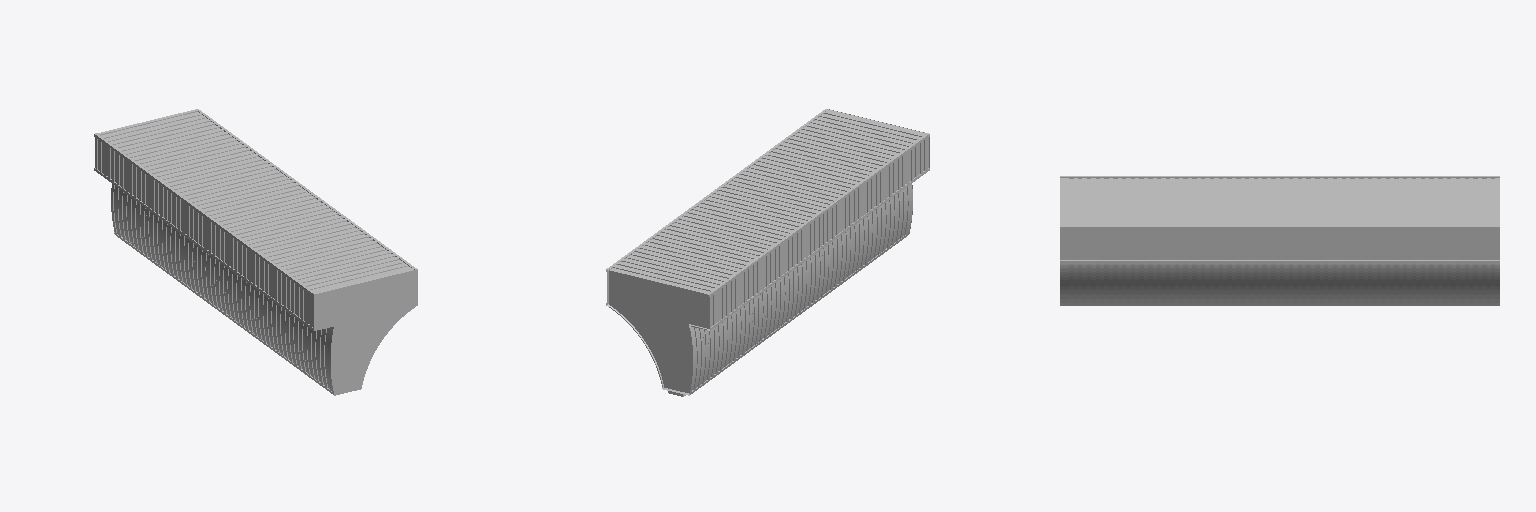
3 views of the same model, side by side, from view 1: azimuth 30°, elevation 25°; view 2: azimuth 150°, elevation 25°; view 3: azimuth 270°, elevation 25° (orthographic).
Visible parts, largest first — view 1: wall_01, glass_01, wall_03, slab_02, wall_1_01, wall_02; view 2: wall_01, glass_01, wall_03, slab_02, wall_1_01, wall_02; view 3: wall_01, glass_01, wall_1_01, wall_02.
Boxes of the visible parts, box(x1,y1,x2,y2) form: wall_01: box(95, 109, 407, 387); glass_01: box(98, 112, 408, 387); wall_03: box(97, 111, 406, 387); slab_02: box(314, 269, 417, 395); wall_1_01: box(94, 109, 416, 394); wall_02: box(310, 267, 413, 392); wall_01: box(607, 114, 922, 392); glass_01: box(607, 114, 923, 394); wall_03: box(609, 113, 924, 392); slab_02: box(609, 109, 929, 392); wall_1_01: box(606, 109, 929, 395); wall_02: box(824, 109, 928, 234); wall_01: box(1074, 178, 1499, 302); glass_01: box(1069, 179, 1494, 302); wall_1_01: box(1060, 176, 1499, 305); wall_02: box(1060, 178, 1068, 302).
Size of the model in its own units: 1634 by 1642 by 6002.